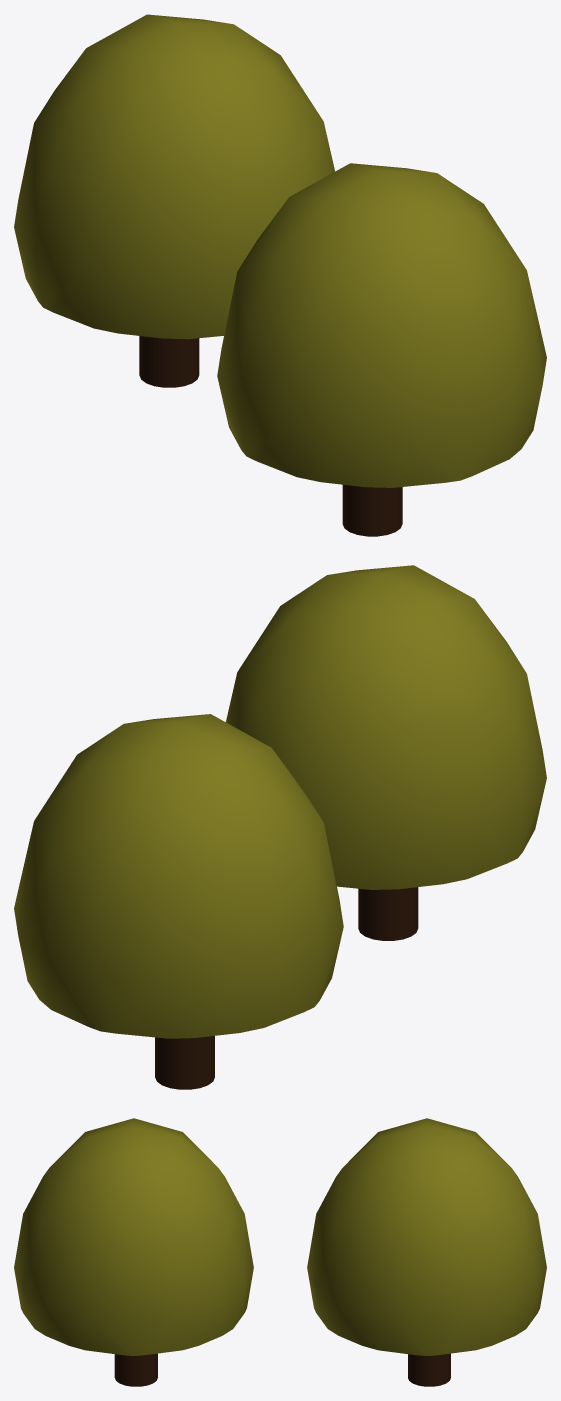
Rendered from bush2.FBX.
3 renders of one model, top to bottom at view 1: azimuth 30°, elevation 25°; view 2: azimuth 150°, elevation 25°; view 3: azimuth 270°, elevation 25°, orthographic. The views are drawn at different scales.
Visible parts, largest first — view 1: GeoSphere169, GeoSphere170, Cylinder284, Cylinder285; view 2: GeoSphere170, GeoSphere169, Cylinder284, Cylinder285; view 3: GeoSphere169, GeoSphere170, Cylinder284, Cylinder285.
Part boxes in pixels (<box>): GeoSphere169: <box>217,163,546,487</box>; GeoSphere170: <box>14,14,334,339</box>; Cylinder284: <box>342,484,402,536</box>; Cylinder285: <box>139,336,199,387</box>; GeoSphere170: <box>14,714,343,1038</box>; GeoSphere169: <box>226,565,546,889</box>; Cylinder284: <box>358,887,418,940</box>; Cylinder285: <box>155,1036,214,1089</box>; GeoSphere169: <box>14,1118,253,1355</box>; GeoSphere170: <box>307,1118,546,1355</box>; Cylinder284: <box>114,1353,157,1386</box>; Cylinder285: <box>408,1353,450,1386</box>.
Size of the model in its own units: 5.6 by 6.53 by 12.45.
